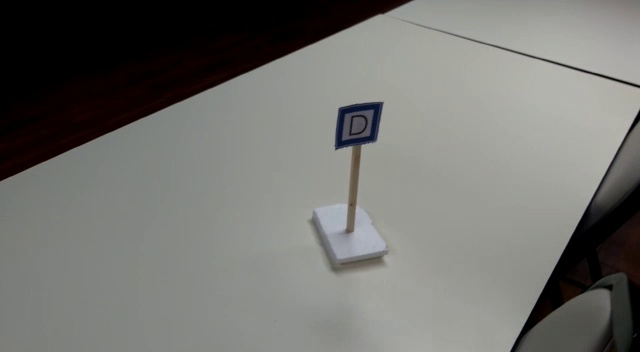durak: (333, 100, 383, 149)
